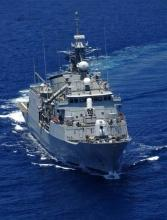warship: (16, 30, 133, 179)
